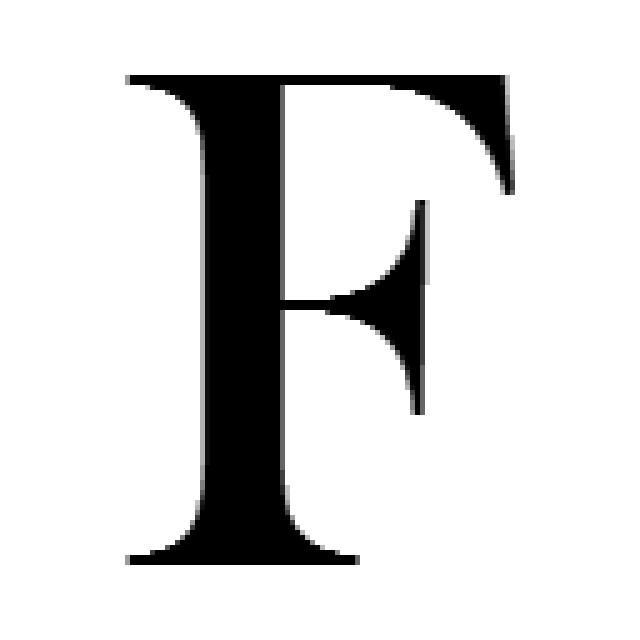F: (123, 70, 520, 568)
